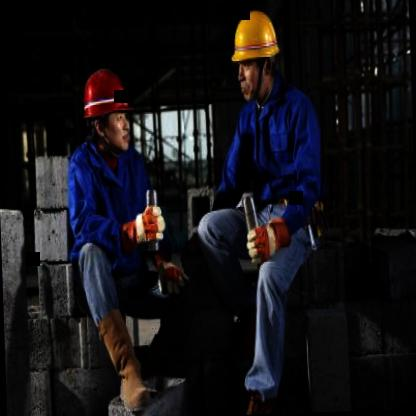helmet: (225, 3, 288, 106), (77, 60, 140, 158)
